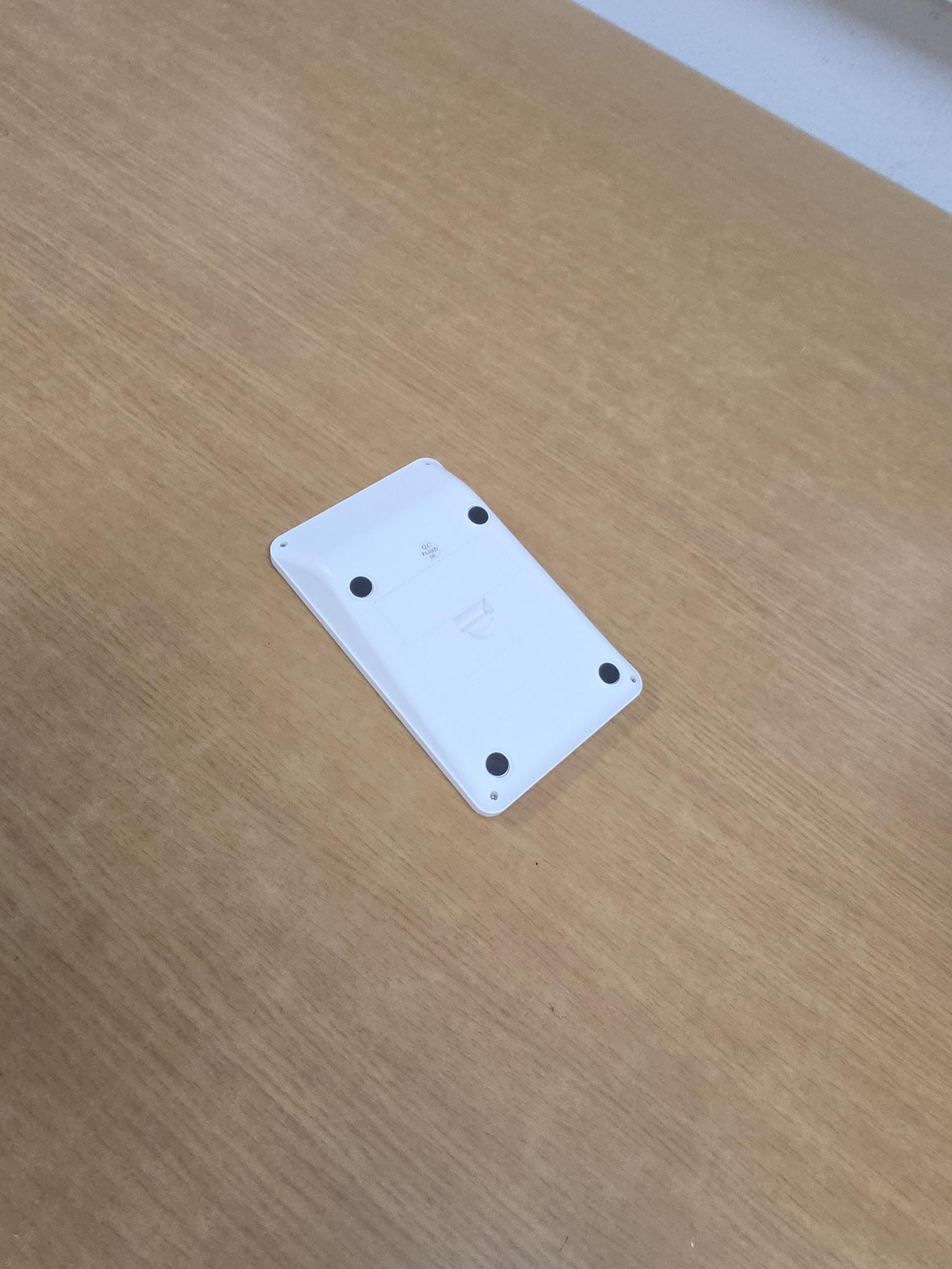calculator: (268, 457, 643, 818)
